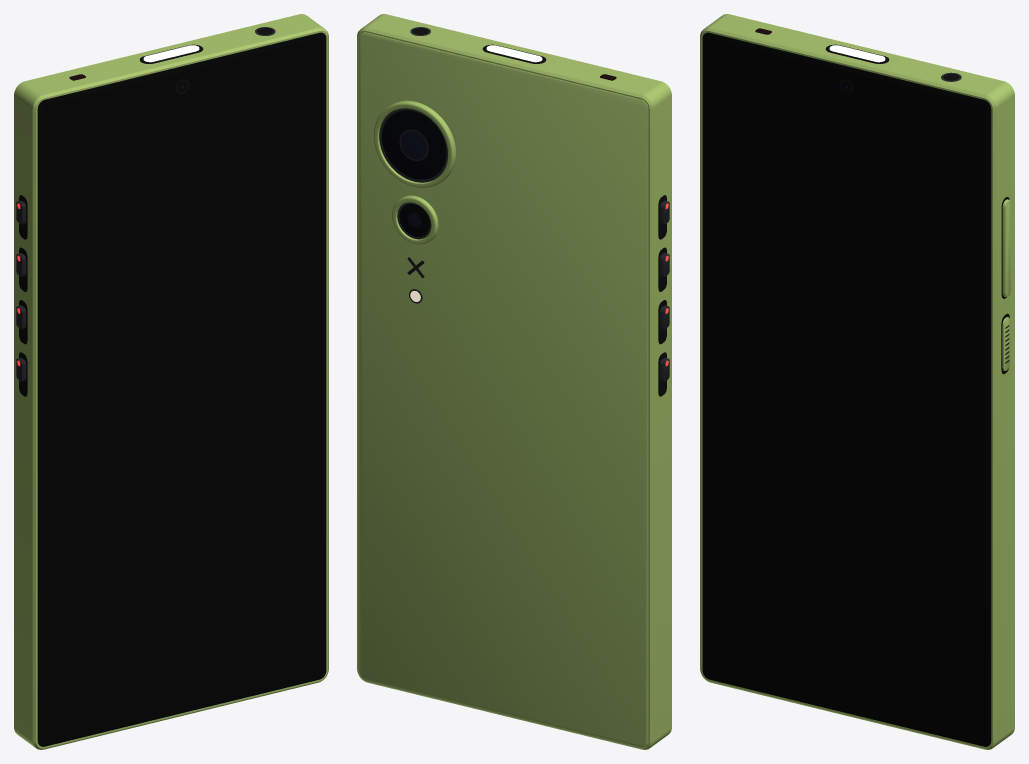
3 views of the same model, side by side, from view 1: azimuth 30°, elevation 25°; view 2: azimuth 150°, elevation 25°; view 3: azimuth 330°, elevation 25° (orthographic).
Parts seen in each view (by area): view 1: Screen, Frame, Glass, SwitchSlots; view 2: Body, Frame, CameraModules, SwitchSlots; view 3: Screen, Frame, Glass, VolumeRocker.
Part boxes in pixels (x1,y1,x2,y2): Screen: [42, 39, 322, 741]; Frame: [14, 14, 328, 749]; Glass: [37, 32, 326, 746]; SwitchSlots: [19, 195, 27, 396]; Body: [359, 32, 648, 746]; Frame: [357, 14, 671, 749]; CameraModules: [373, 100, 455, 244]; SwitchSlots: [658, 195, 666, 396]; Screen: [706, 39, 986, 741]; Frame: [700, 14, 1014, 749]; Glass: [702, 32, 991, 746]; VolumeRocker: [1002, 199, 1011, 296].
Size of the model in its own units: 0.0729 by 0.1505 by 0.0104.
